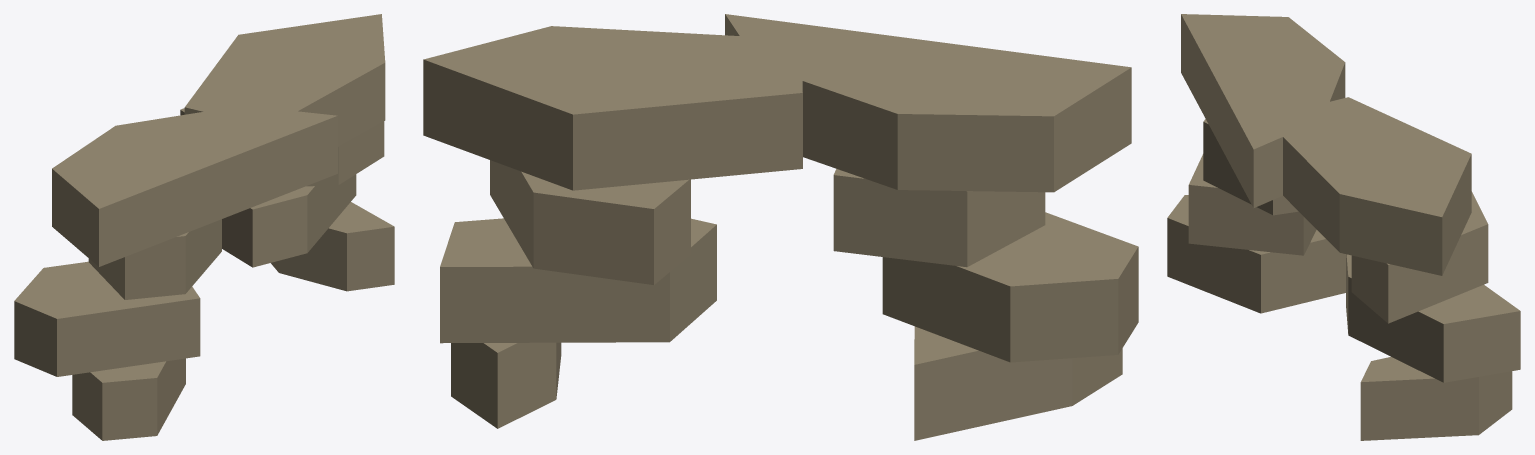
Rendered from 地形块C2.FBX.
3 renders of one model, left to right at view 1: azimuth 30°, elevation 25°; view 2: azimuth 150°, elevation 25°; view 3: azimuth 270°, elevation 25°, orthographic. The views are drawn at different scales.
Visible parts, largest first — view 1: 地形块C2; view 2: 地形块C2; view 3: 地形块C2.
Boxes of the visible parts, x1,y1,x2,y2 form: 地形块C2: (14, 14, 394, 440); 地形块C2: (423, 14, 1138, 440); 地形块C2: (1167, 14, 1520, 440).
Size of the model in its own units: 6.28 by 3.13 by 4.23.
Materials: 1 (1 with a texture image).
